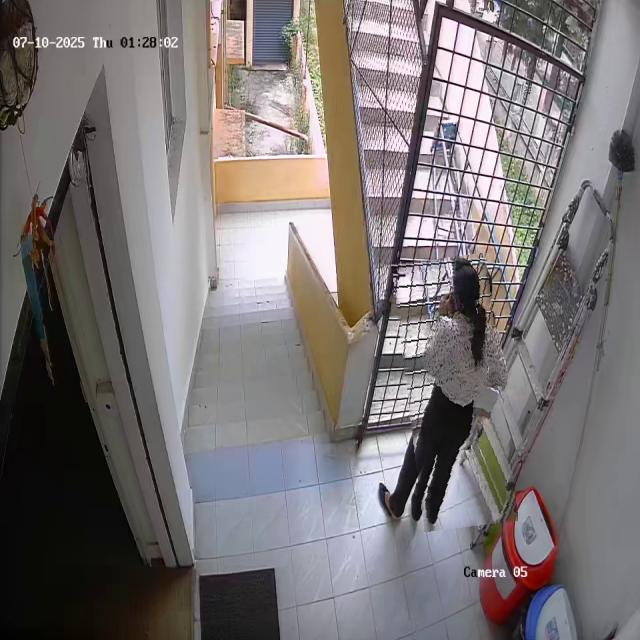person: (399, 256, 510, 530)
